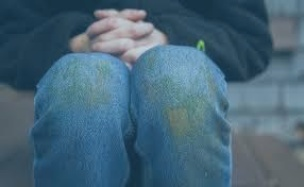earth: (67, 66, 111, 102), (170, 104, 203, 130)
